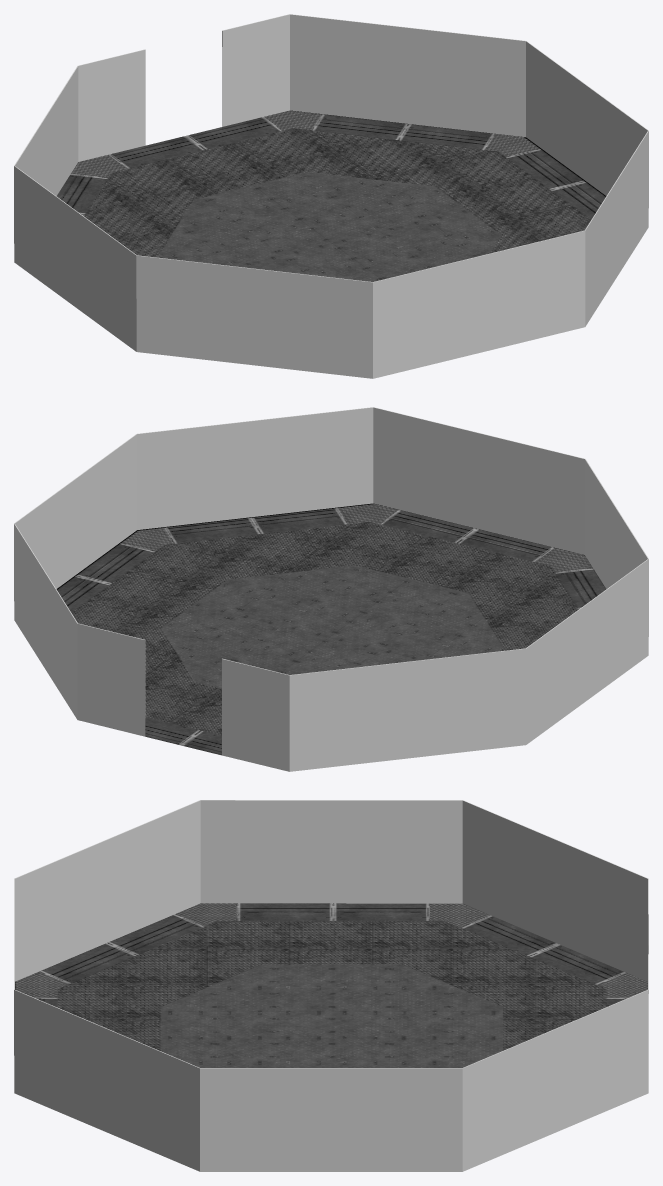
The model's file is room_criogeny.fbx.
3 views of the same model, one above another, from view 1: azimuth 30°, elevation 25°; view 2: azimuth 150°, elevation 25°; view 3: azimuth 270°, elevation 25° (orthographic). The views are drawn at different scales.
Visible parts, largest first — view 1: Sala Criogenia.001; view 2: Sala Criogenia.001; view 3: Sala Criogenia.001.
Boxes of the visible parts, bbox=[...] form: Sala Criogenia.001: bbox=[14, 14, 648, 378]; Sala Criogenia.001: bbox=[14, 407, 648, 771]; Sala Criogenia.001: bbox=[14, 800, 648, 1171].
Bounding box in the file's own units: 2538 × 458 × 2538.
